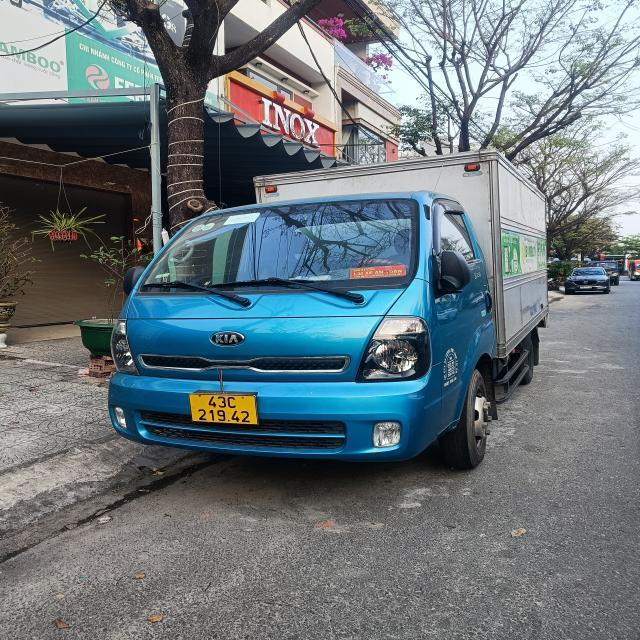car: (99, 176, 551, 480), (567, 258, 614, 296), (623, 252, 640, 284)
plate: (185, 383, 262, 431)
